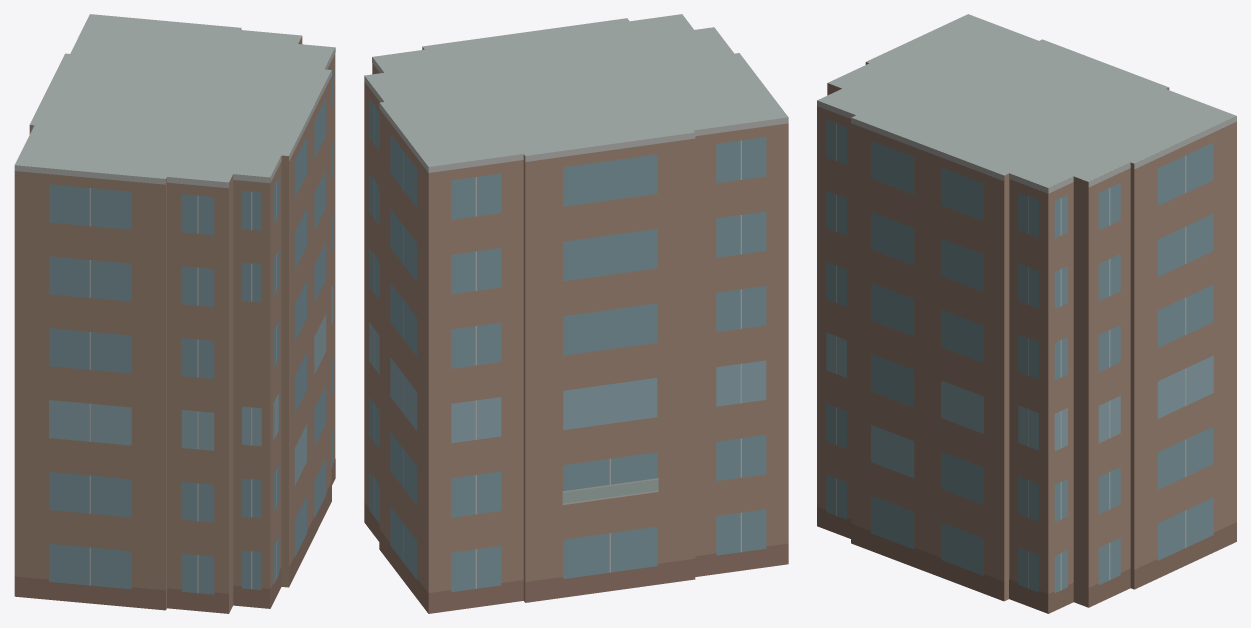
File: survey-upis-32757903.glb
3 views of the same model, side by side, from view 1: azimuth 30°, elevation 25°; view 2: azimuth 150°, elevation 25°; view 3: azimuth 270°, elevation 25° (orthographic). The views are drawn at different scales.
Parts seen in each view (by area): view 1: survey-upis-32757903.tmp; view 2: survey-upis-32757903.tmp; view 3: survey-upis-32757903.tmp.
Part boxes in pixels (bbox=[...]): survey-upis-32757903.tmp: bbox=[14, 14, 335, 613]; survey-upis-32757903.tmp: bbox=[364, 14, 788, 613]; survey-upis-32757903.tmp: bbox=[817, 14, 1236, 613].
Bounding box in the file's own units: 16.05 × 18.3 × 16.36.
